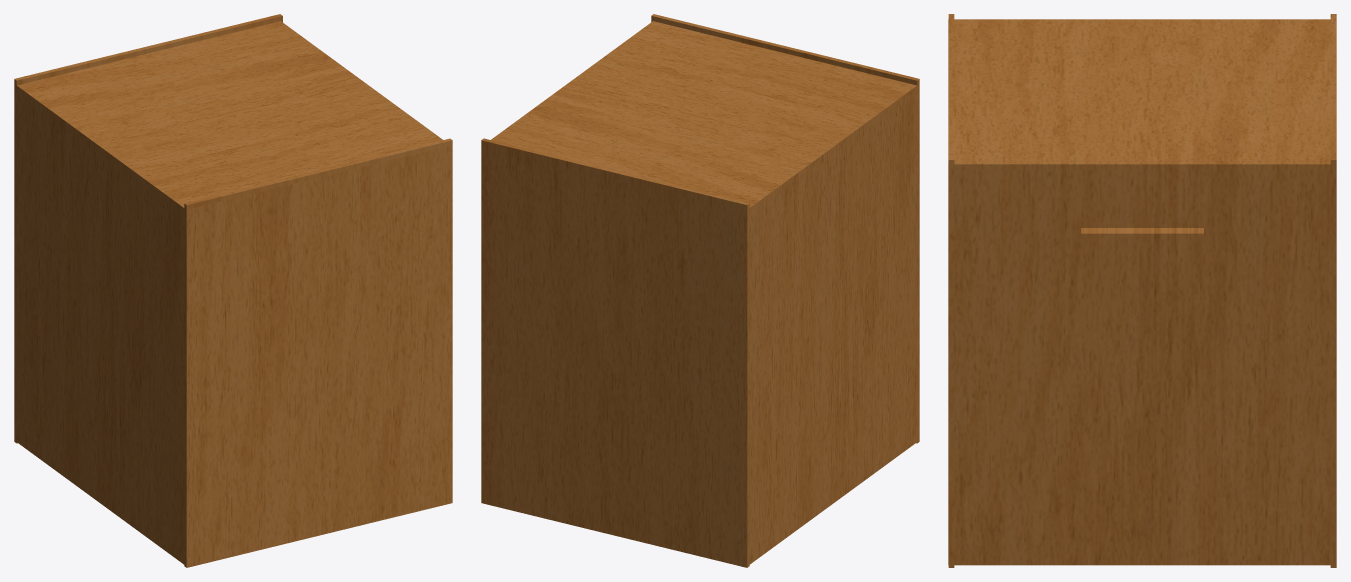
File: Caja comics.glb
The picture shows the model from 3 angles, left to right: view 1: azimuth 30°, elevation 25°; view 2: azimuth 150°, elevation 25°; view 3: azimuth 270°, elevation 25°; orthographic projection. The views are drawn at different scales.
Parts seen in each view (by area): view 1: Caballete_Caja comics; view 2: Caballete_Caja comics; view 3: Caballete_Caja comics.
Boxes of the visible parts, x1,y1,x2,y2 form: Caballete_Caja comics: (14,14,452,567); Caballete_Caja comics: (481,14,919,567); Caballete_Caja comics: (948,14,1336,567).
Size of the model in its own units: 0.2993 by 0.3901 by 0.3363.
2 materials, 2 textured.
